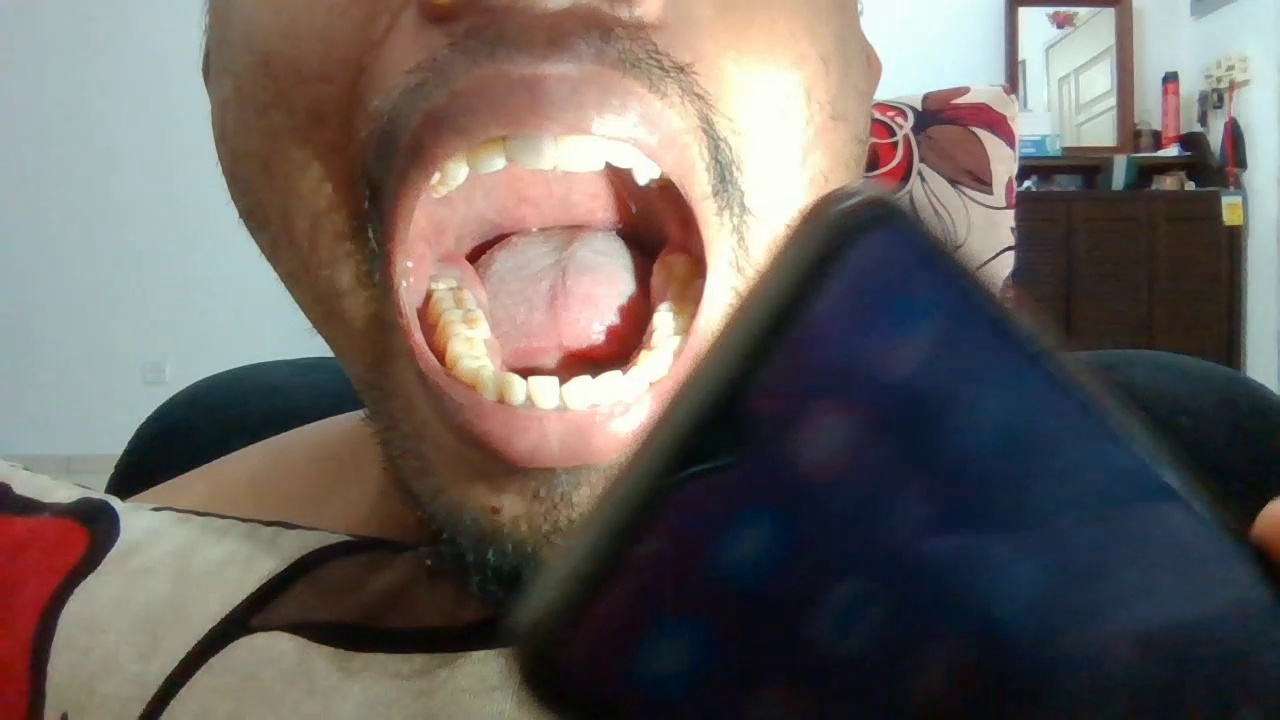1st Molar: (435, 309, 492, 337), (652, 301, 705, 331)
1st Premolar: (634, 348, 675, 380), (449, 356, 491, 381)
2nd Molar: (426, 289, 480, 308), (666, 277, 705, 300)
2nd Premolar: (446, 337, 489, 358), (648, 330, 687, 348)
3rd Molar: (658, 251, 703, 279), (429, 274, 464, 290)
Canine: (634, 150, 662, 190), (443, 153, 470, 192), (474, 366, 500, 400), (626, 365, 649, 399)
Central Incisor: (504, 131, 559, 171), (559, 133, 607, 172), (561, 374, 595, 410), (527, 374, 560, 410)
Lateral Incisor: (467, 139, 505, 174), (595, 368, 625, 408), (607, 138, 638, 168), (500, 372, 527, 405)
